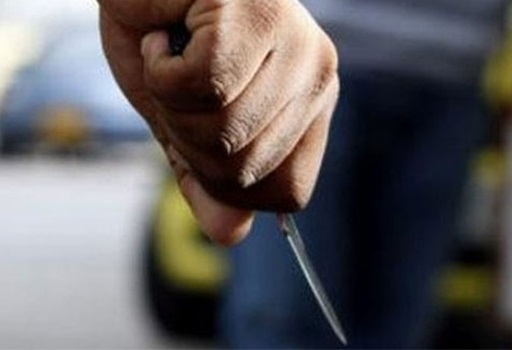knife: (191, 78, 356, 349)
